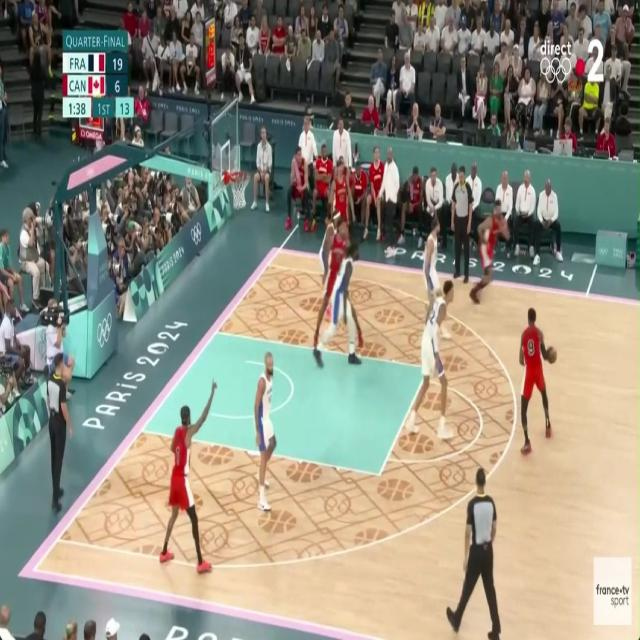ball_handler: (519, 308, 557, 454)
